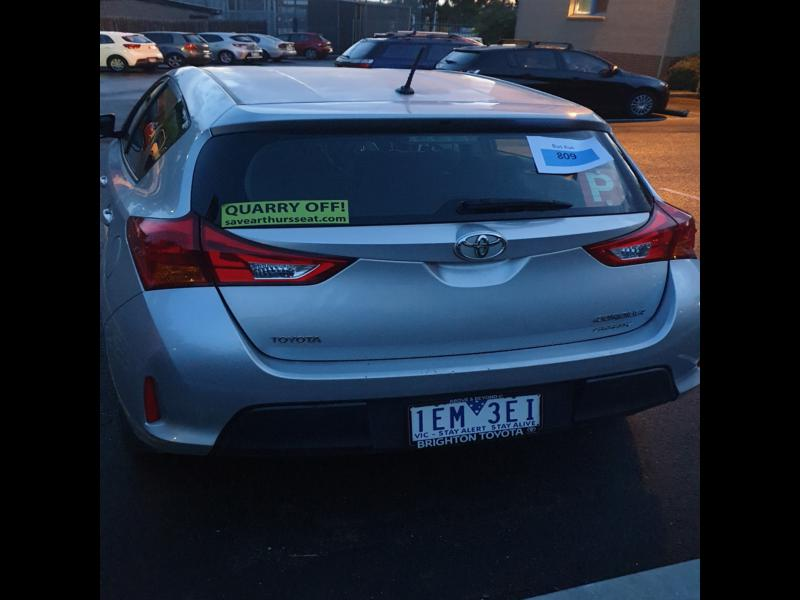BusRun: (541, 149, 600, 164)
PlateNo: (409, 394, 542, 442)
